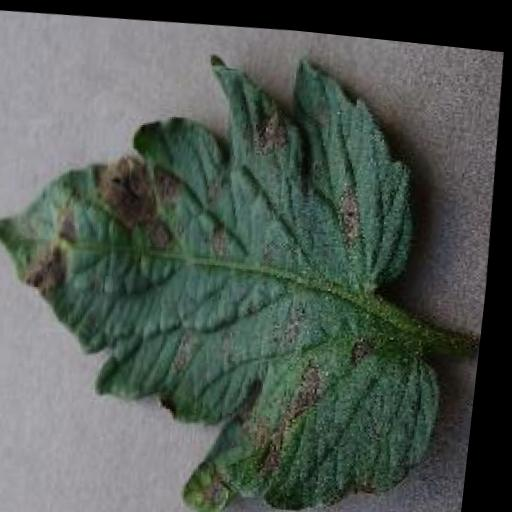Early Blight: (0, 25, 475, 512)
